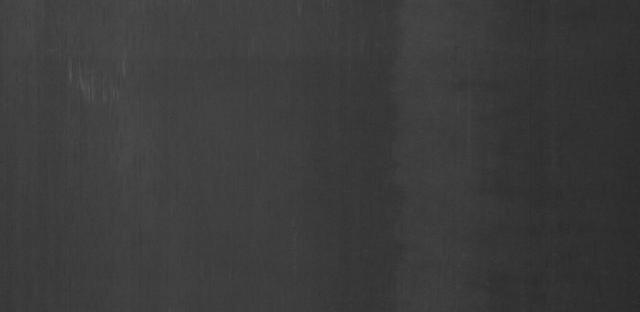silk_spot: (59, 57, 142, 116), (437, 68, 495, 126)
